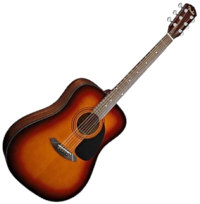guitar: (2, 1, 198, 203)
